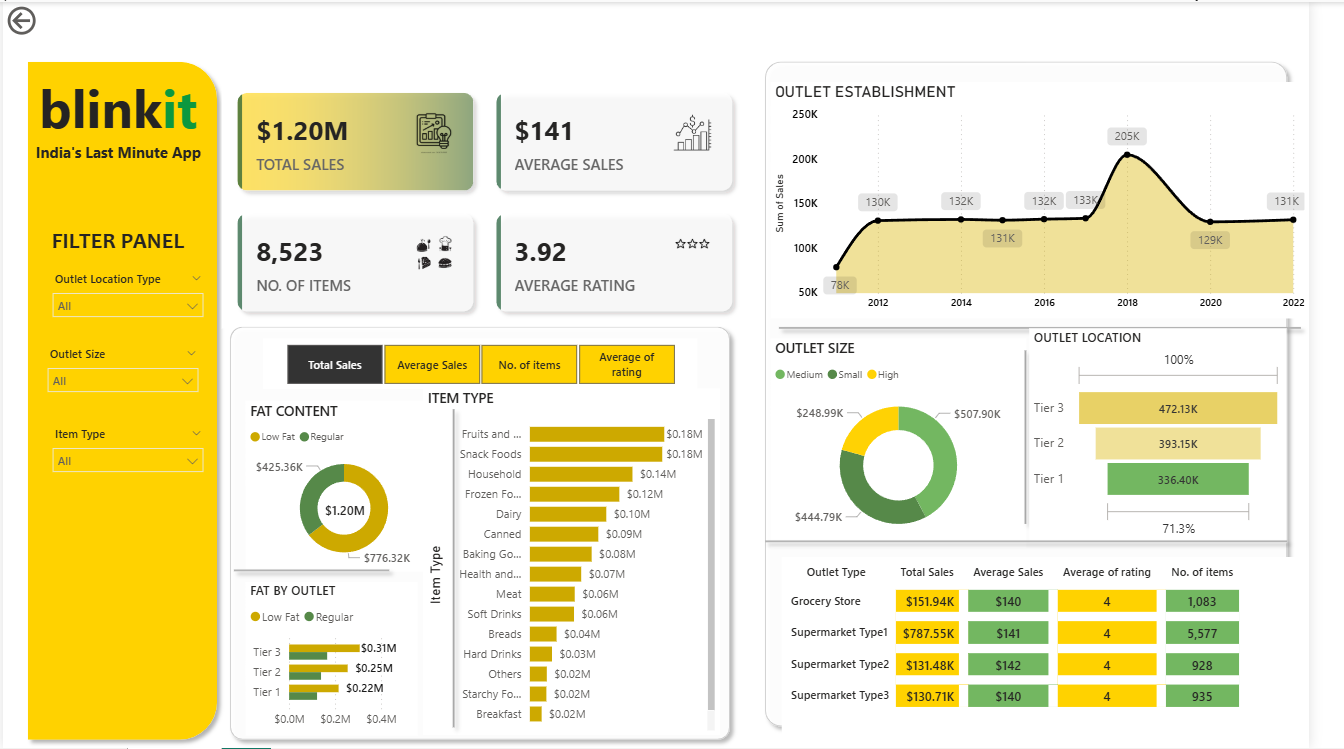

This screenshot's page, from the dashboard's own definition file:
{"tool":"powerbi","page":{"name":"Page 1","canvas":[1400,800],"ordinal":0},"visuals":[{"type":"shape","box":[17.4,55,221.2,745.3],"z":0},{"type":"textbox","box":[438.3,55.5,12,106.6],"z":1000},{"type":"textbox","box":[13.5,69,220.6,135.1],"z":2000},{"type":"cardVisual","fields":{"Data":["BlinkIT-Grocery-Data.Total Sales","BlinkIT-Grocery-Data.Average Sales","BlinkIT-Grocery-Data.No. of items","BlinkIT-Grocery-Data.Average of rating"]},"box":[234.6,80.4,565.7,269.4],"z":3000},{"type":"shape","box":[235,339,554,461],"z":4000},{"type":"donutChart","title":"FAT CONTENT ","fields":{"Y":["BlinkIT-Grocery-Data.Total Sales"],"Category":["BlinkIT-Grocery-Data.Item Fat Content"]},"box":[259.6,427.7,211.6,183.1],"z":5000},{"type":"slicer","fields":{"Values":["Metrics.Metrics"]},"box":[279.2,360.2,465.3,54],"z":6000},{"type":"cardVisual","fields":{"Data":["BlinkIT-Grocery-Data.Total Sales"]},"box":[310.7,519.3,112.6,39],"z":7000},{"type":"clusteredBarChart","title":"FAT BY OUTLET ","fields":{"Y":["BlinkIT-Grocery-Data.Total Sales"],"Category":["BlinkIT-Grocery-Data.Outlet Location Type"],"Series":["BlinkIT-Grocery-Data.Item Fat Content"]},"box":[259.6,621.4,184.6,165.1],"z":8000},{"type":"shape","box":[238.6,544.8,184.6,130.6],"z":9000},{"type":"barChart","title":"ITEM TYPE","fields":{"Y":["BlinkIT-Grocery-Data.Total Sales"],"Category":["BlinkIT-Grocery-Data.Item Type"]},"box":[450.3,414.2,318.2,372.2],"z":10000},{"type":"shape","box":[809,55.5,577.8,730.9],"z":11000},{"type":"lineChart","title":"OUTLET ESTABLISHMENT ","fields":{"Category":["BlinkIT-Grocery-Data.Outlet Establishment Year"],"Y":["Sum(BlinkIT-Grocery-Data.Sales)"]},"box":[822.5,85.5,577.8,253.6],"z":12000},{"type":"shape","box":[822.5,283.7,577.8,130.6],"z":13000},{"type":"donutChart","title":"OUTLET SIZE","fields":{"Category":["BlinkIT-Grocery-Data.Outlet Size"],"Y":["BlinkIT-Grocery-Data.Total Sales"]},"box":[822.5,360.2,274.7,225.1],"z":14000},{"type":"shape","box":[366,427.6,234.6,359.3],"z":15000},{"type":"shape","box":[947,364.7,300.2,204.1],"z":16000},{"type":"funnel","title":"OUTLET LOCATION ","fields":{"Category":["BlinkIT-Grocery-Data.Outlet Location Type"],"Y":["Sum(BlinkIT-Grocery-Data.Sales)"]},"box":[1100.1,349.7,276.2,230],"z":17000},{"type":"shape","box":[809,534.3,577.8,87.1],"z":18000},{"type":"pivotTable","fields":{"Rows":["BlinkIT-Grocery-Data.Outlet Type"],"Values":["BlinkIT-Grocery-Data.Total Sales","BlinkIT-Grocery-Data.Average Sales","BlinkIT-Grocery-Data.Average of rating","BlinkIT-Grocery-Data.No. of items"]},"box":[834.5,595.8,553.8,190.6],"z":19000},{"type":"actionButton","box":[0,0,100,40],"z":20000},{"type":"slicer","fields":{"Values":["BlinkIT-Grocery-Data.Outlet Location Type"]},"box":[42.9,284.2,182.3,76.4],"z":21000},{"type":"slicer","fields":{"Values":["BlinkIT-Grocery-Data.Outlet Size"]},"box":[37.5,364.6,182.3,68.4],"z":22000},{"type":"slicer","fields":{"Values":["BlinkIT-Grocery-Data.Item Type"]},"box":[42.9,450.4,182.3,68.4],"z":23000},{"type":"textbox","box":[42.9,235.9,160.9,48.3],"z":24000}]}

Visuals, with their boxes on the page's 1400x800 design canvas (x1, y1, x2, y2). These are canvas units, not pixel positions in the 1344x749 screenshot, which may show the page scaled, cropped or inside an application window:
shape: <box>17,55,239,800</box>
textbox: <box>438,56,450,162</box>
textbox: <box>14,69,234,204</box>
cardVisual - BlinkIT-Grocery-Data.Total Sales x BlinkIT-Grocery-Data.Average Sales: <box>235,80,800,350</box>
shape: <box>235,339,789,800</box>
"FAT CONTENT " donutChart: <box>260,428,471,611</box>
slicer - Metrics.Metrics: <box>279,360,744,414</box>
cardVisual - BlinkIT-Grocery-Data.Total Sales: <box>311,519,423,558</box>
"FAT BY OUTLET " clusteredBarChart: <box>260,621,444,786</box>
shape: <box>239,545,423,675</box>
"ITEM TYPE" barChart: <box>450,414,768,786</box>
shape: <box>809,56,1387,786</box>
"OUTLET ESTABLISHMENT " lineChart: <box>822,86,1400,339</box>
shape: <box>822,284,1400,414</box>
"OUTLET SIZE" donutChart: <box>822,360,1097,585</box>
shape: <box>366,428,601,787</box>
shape: <box>947,365,1247,569</box>
"OUTLET LOCATION " funnel: <box>1100,350,1376,580</box>
shape: <box>809,534,1387,621</box>
pivotTable - BlinkIT-Grocery-Data.Outlet Type x BlinkIT-Grocery-Data.Total Sales: <box>834,596,1388,786</box>
actionButton: <box>0,0,100,40</box>
slicer - BlinkIT-Grocery-Data.Outlet Location Type: <box>43,284,225,361</box>
slicer - BlinkIT-Grocery-Data.Outlet Size: <box>38,365,220,433</box>
slicer - BlinkIT-Grocery-Data.Item Type: <box>43,450,225,519</box>
textbox: <box>43,236,204,284</box>
